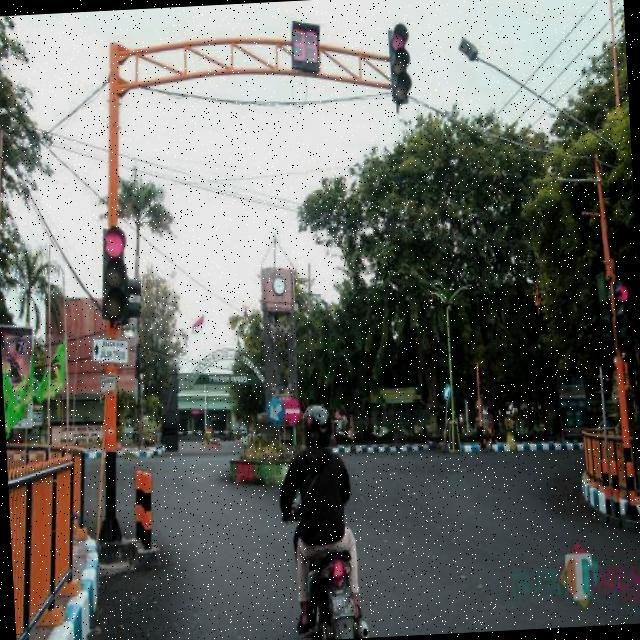Czerwone swiatlo: (98, 225, 130, 324), (387, 26, 410, 107), (612, 278, 633, 356)
